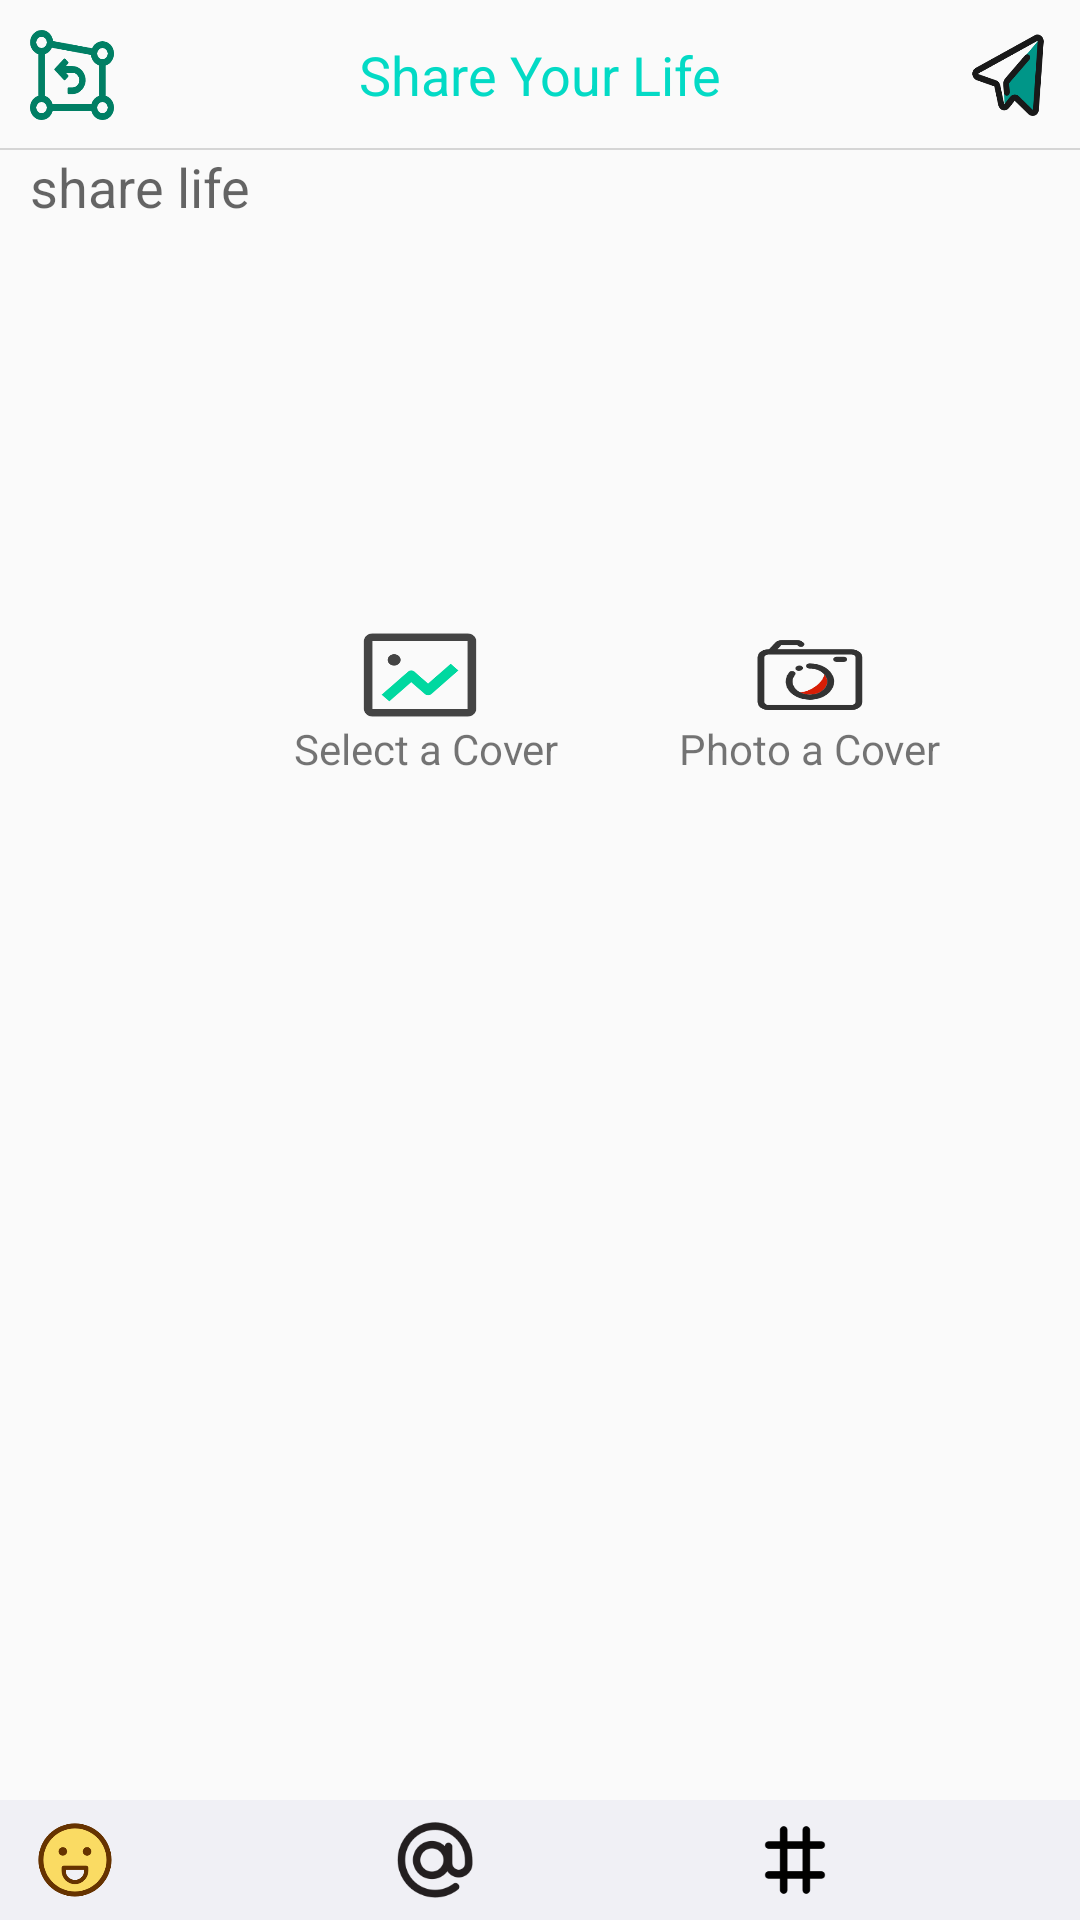

Named icons in this screenshot (1080×1920) and their centers, (x=x, y=y):
emoji: (x=75, y=1860)
hash: (x=795, y=1860)
send: (x=1008, y=75)
